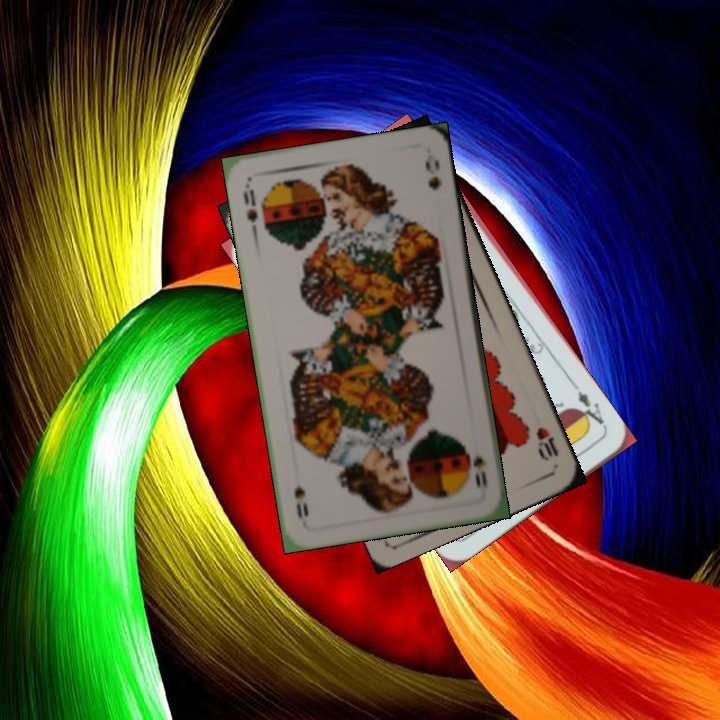EA: (569, 380, 609, 432)
H10: (531, 422, 561, 464)
SO: (239, 179, 260, 238), (469, 451, 490, 495)
